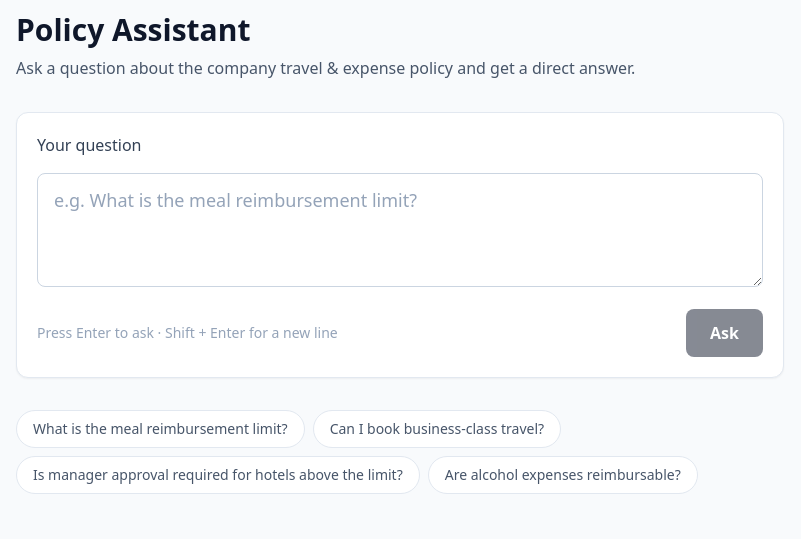
Scenario: PolicyAssistantPage › renders the answer in a single answer card
Type "What is the meal limit?" into the text box labelled "Your question" at [400, 230], box x1=37 y1=173 x2=763 y2=287
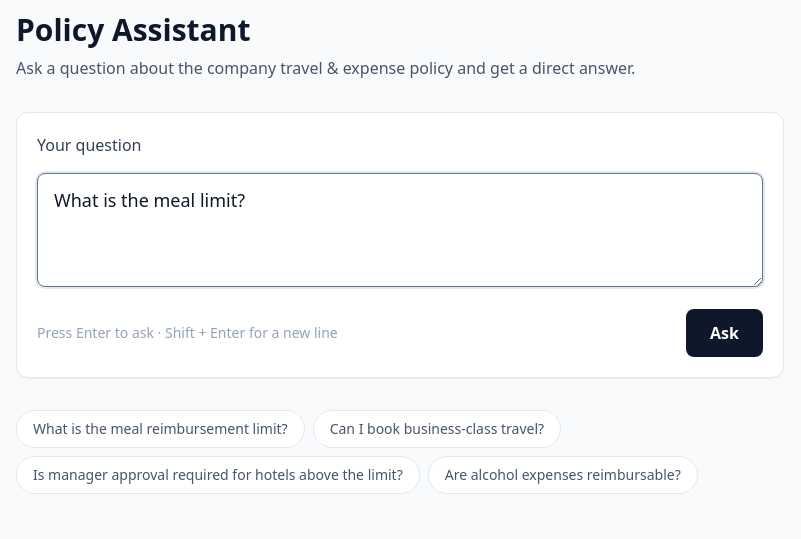
Click the button "Ask" at [725, 333], box x1=686 y1=309 x2=763 y2=357
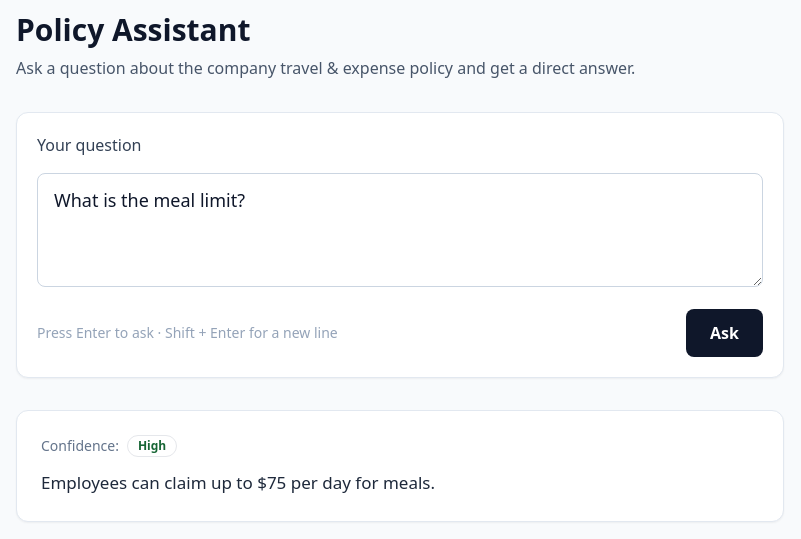
expect the text "Employees can claim up to $75 per day for meals." is shown: met, box x1=41 y1=471 x2=435 y2=494
